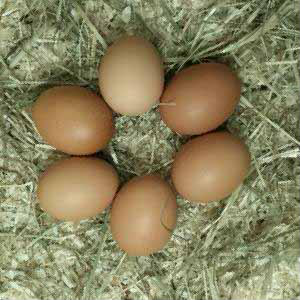egg: (159, 62, 242, 137), (32, 86, 115, 156), (169, 133, 251, 203), (96, 35, 165, 117), (108, 174, 177, 255), (36, 155, 119, 221)
